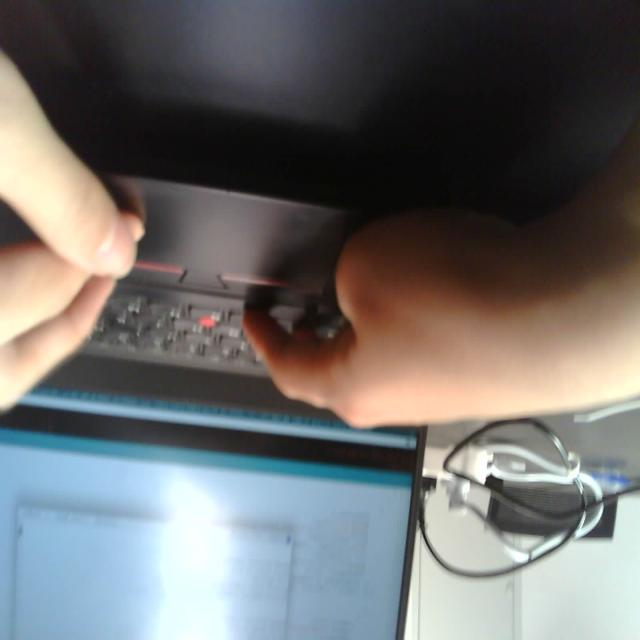keyboard-with-hands: (0, 147, 439, 408)
